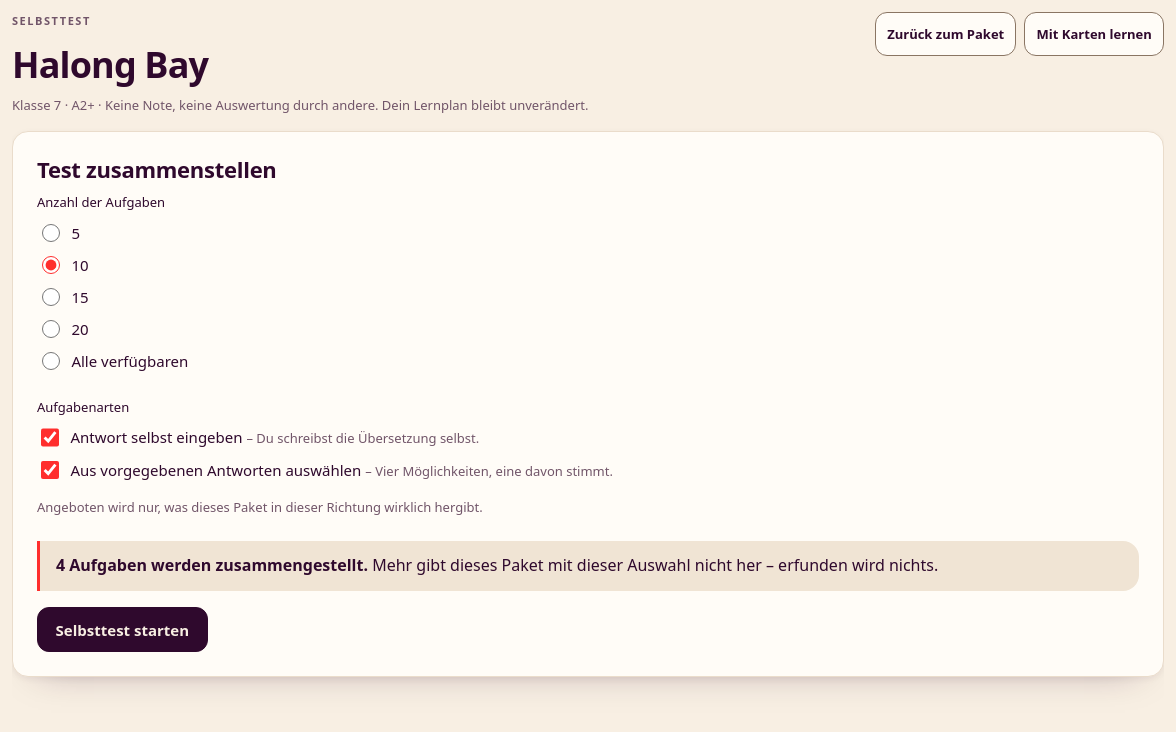
Test: Rückfrage vor dem Verlassen › fragt im laufenden Selbsttest nach
What coordinates should you click on to do the following:
click the button "Selbsttest starten"
I would click on:
 (122, 630)
Its box is [37, 607, 208, 652].
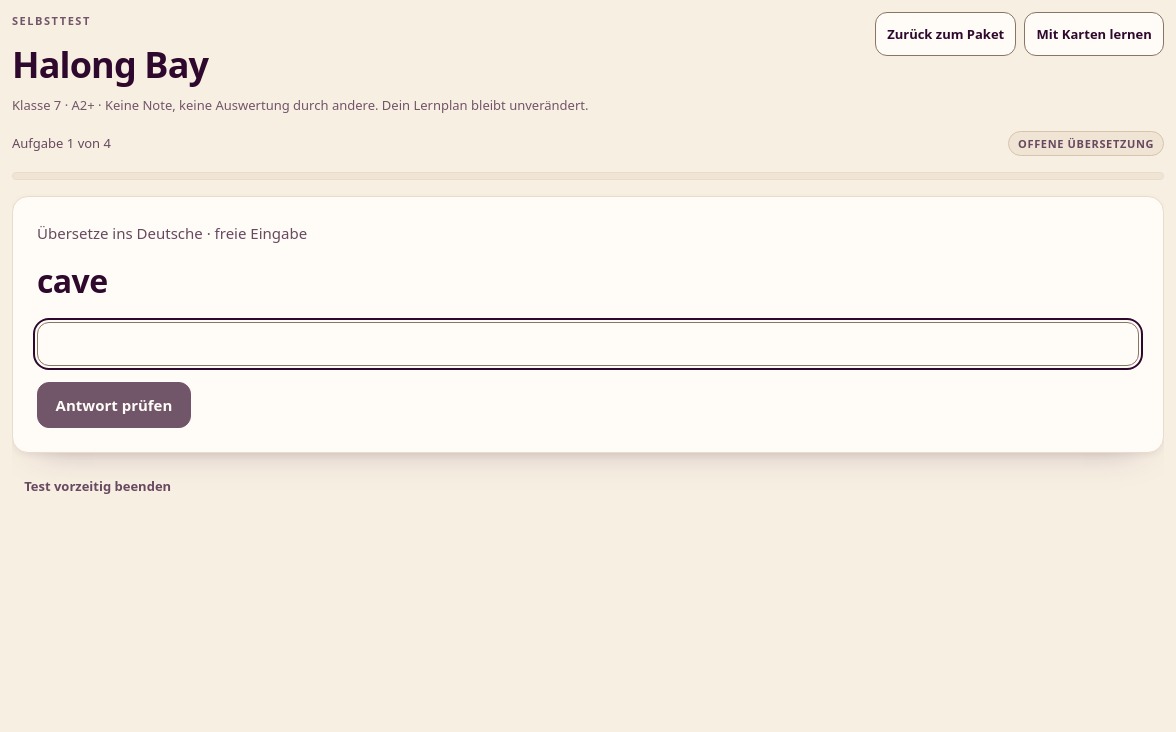
What coordinates should you click on to do the following:
click the button "Zurück zum Paket"
I would click on:
 (946, 34)
Its box is [875, 12, 1016, 56].
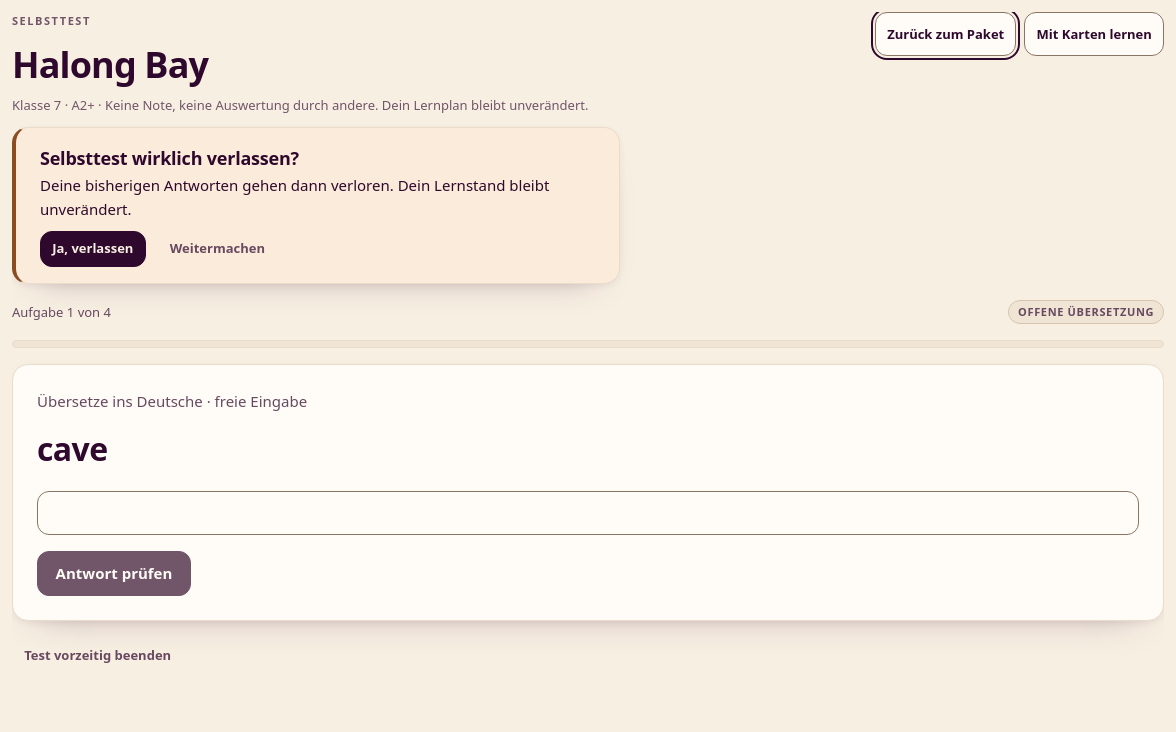
Expected: the text "Selbsttest wirklich verlassen?" is shown, [40, 146, 299, 170]
